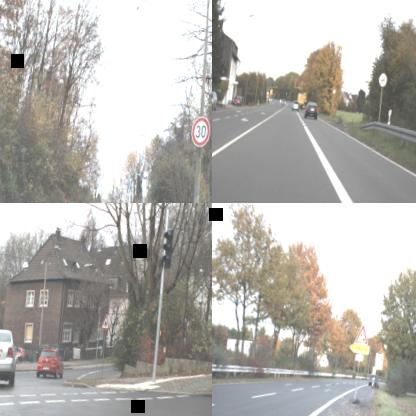CONSTRUCTION: (354, 322, 369, 344)
priority at next intersection: (99, 312, 111, 330)
restriction ends 80: (378, 72, 388, 86)
speed limit 30: (188, 113, 212, 148)
